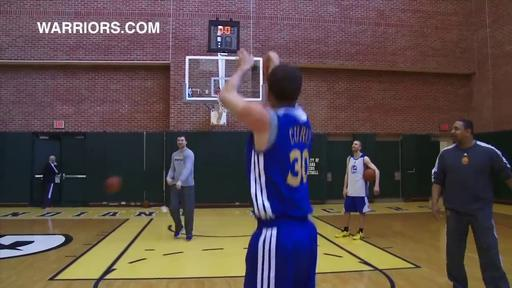ball: (103, 177, 122, 194), (363, 168, 375, 182)
human: (220, 48, 318, 288), (430, 117, 512, 288), (334, 141, 380, 239), (166, 134, 194, 242), (44, 155, 61, 209)
rim: (214, 91, 232, 114)
